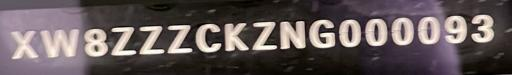letter: (38, 27, 80, 58), (8, 25, 40, 60), (248, 19, 280, 52), (193, 20, 223, 55), (278, 19, 308, 52), (164, 22, 194, 55), (137, 23, 167, 56), (307, 18, 337, 49), (415, 13, 443, 46), (362, 15, 390, 48), (223, 21, 251, 54), (110, 26, 138, 59), (442, 12, 468, 45), (83, 28, 109, 57), (337, 18, 361, 49), (390, 16, 414, 45)
